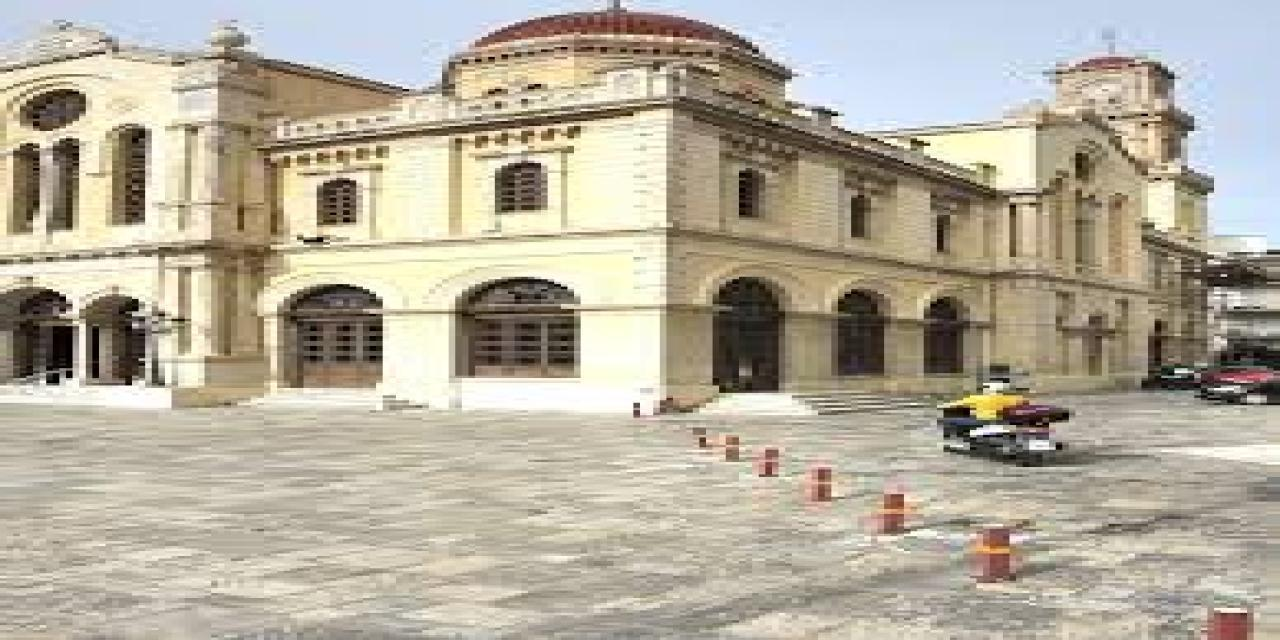Agios Minas: (2, 4, 1248, 405)
